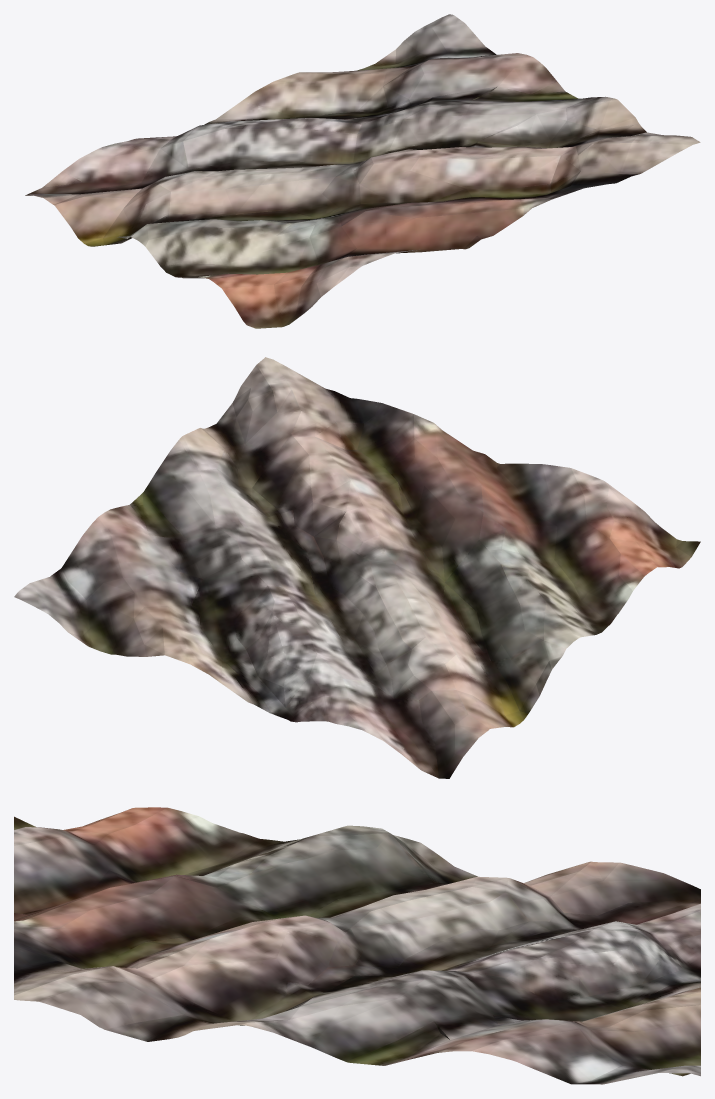
The picture shows the model from 3 angles, top to bottom: view 1: azimuth 30°, elevation 25°; view 2: azimuth 150°, elevation 25°; view 3: azimuth 270°, elevation 25°; orthographic projection. The views are drawn at different scales.
Size of the model in its own units: 0.8373 by 0.2458 by 0.8373.
3 materials, 3 textured.
